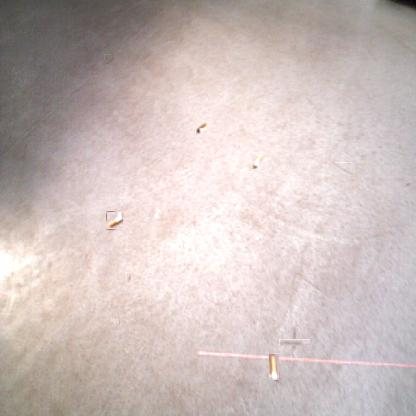dirty: (105, 212, 123, 229), (269, 353, 279, 380), (252, 152, 264, 169), (195, 122, 207, 134)
mark: (285, 333, 304, 352), (334, 162, 352, 175), (104, 54, 114, 64), (126, 272, 132, 283), (404, 180, 412, 188)
